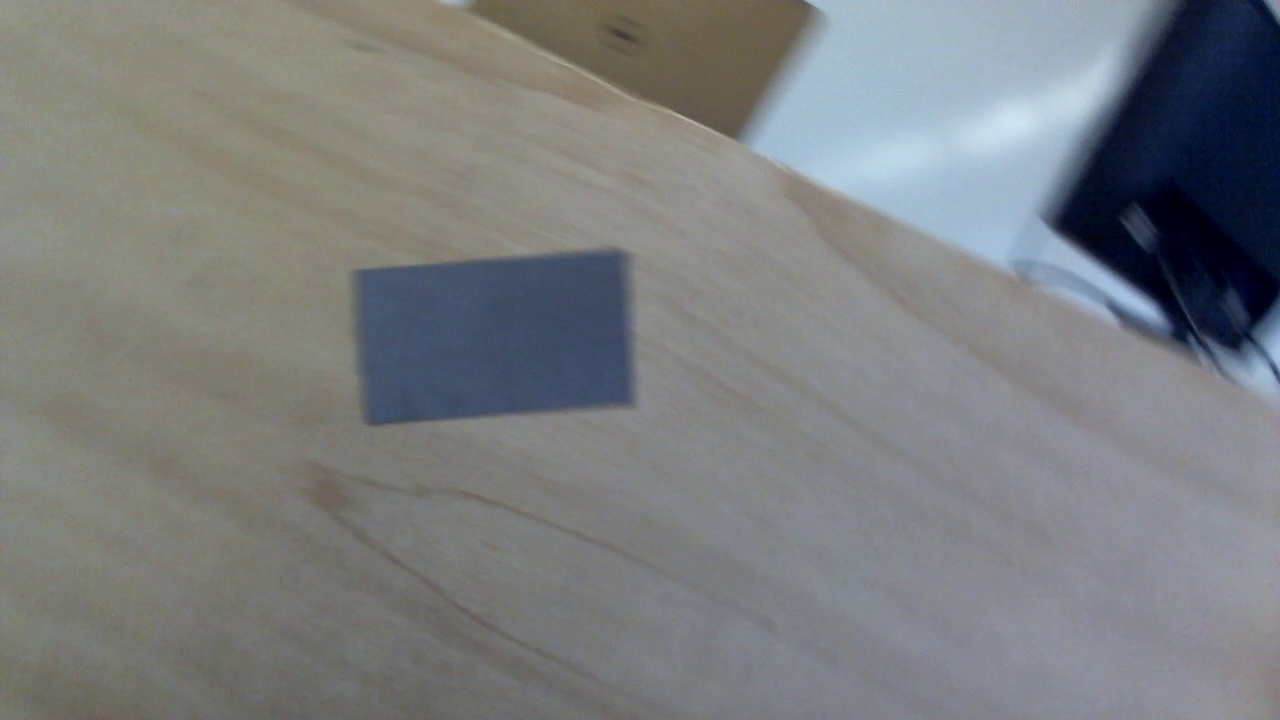Tape: (349, 249, 642, 425)
